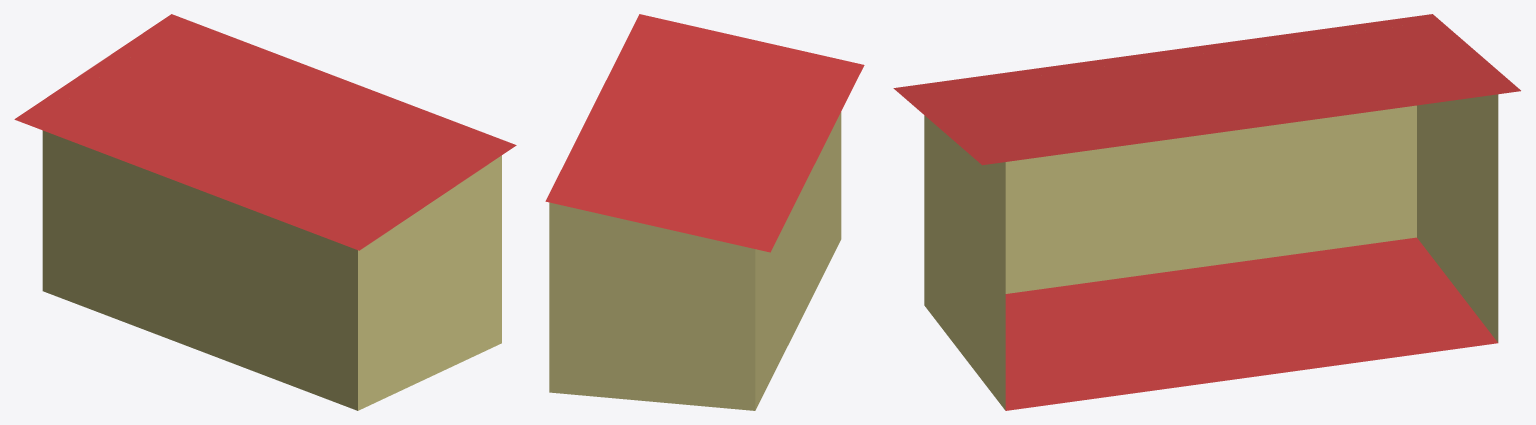
3 views of the same model, side by side, from view 1: azimuth 30°, elevation 25°; view 2: azimuth 150°, elevation 25°; view 3: azimuth 270°, elevation 25° (orthographic). The views are drawn at different scales.
Size of the model in its own units: 9.13 by 12.77 by 5.58.
